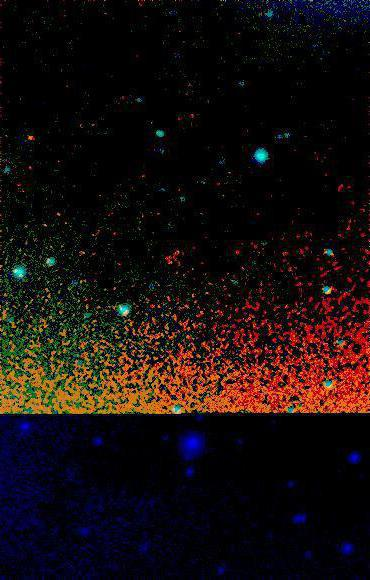star: (15, 125, 45, 155)
